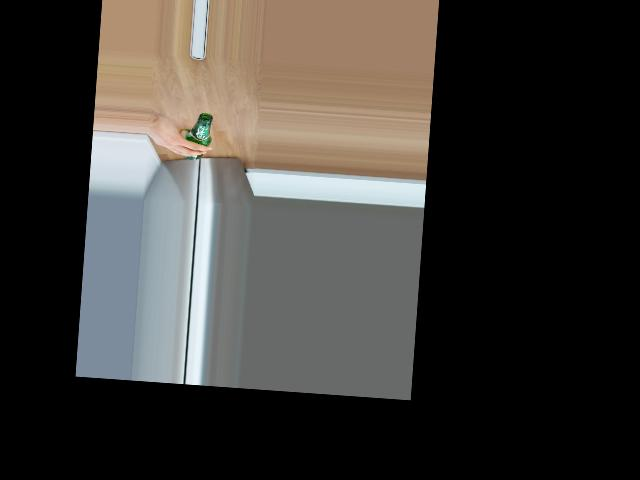beer: (183, 111, 212, 160)
